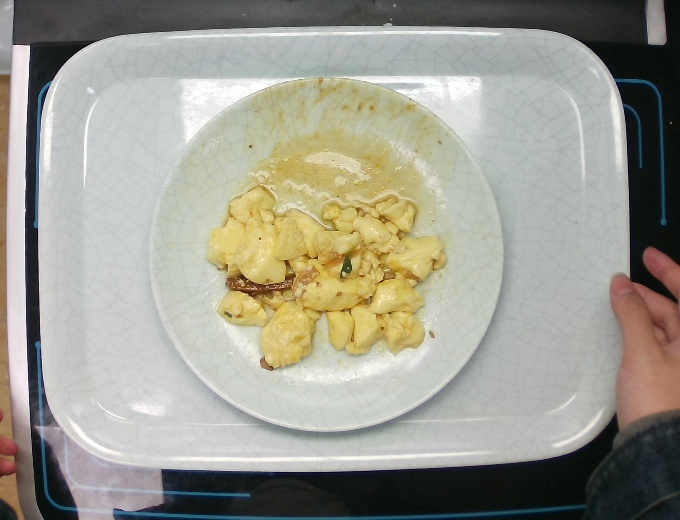JYsf-Da_Yuan_Pan: (144, 72, 506, 435)
